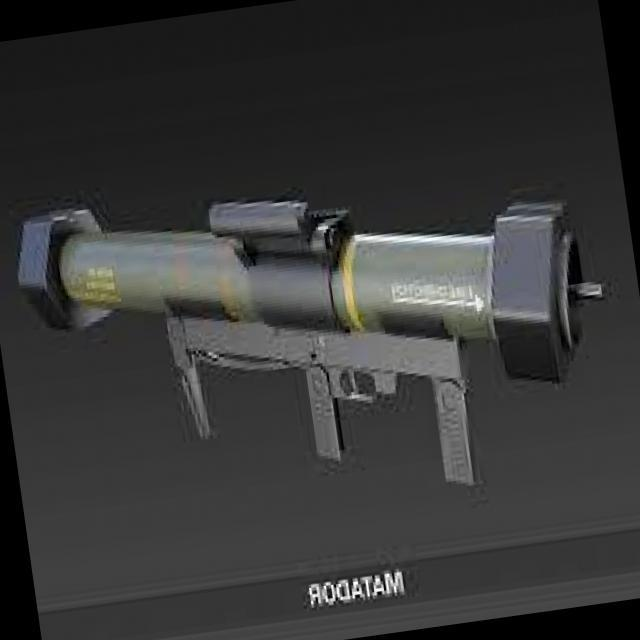rocket: (15, 136, 629, 544)
